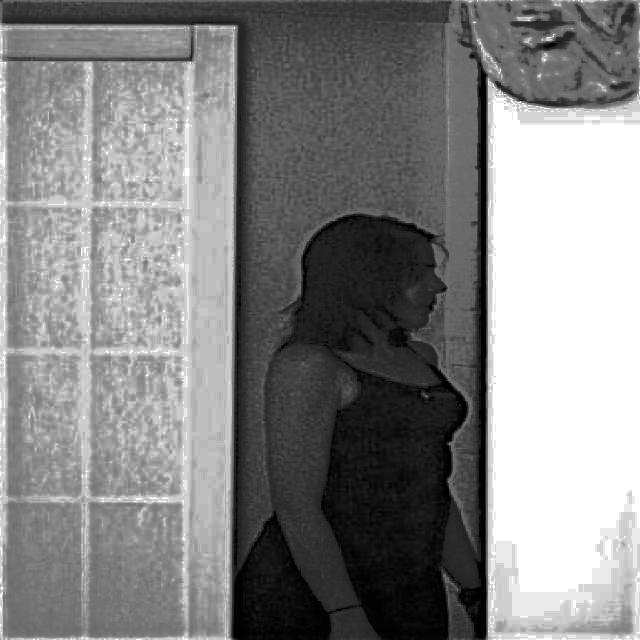Person: (228, 211, 488, 640)
